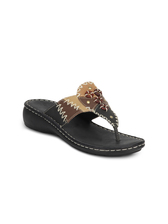shoes: (18, 80, 148, 156)
